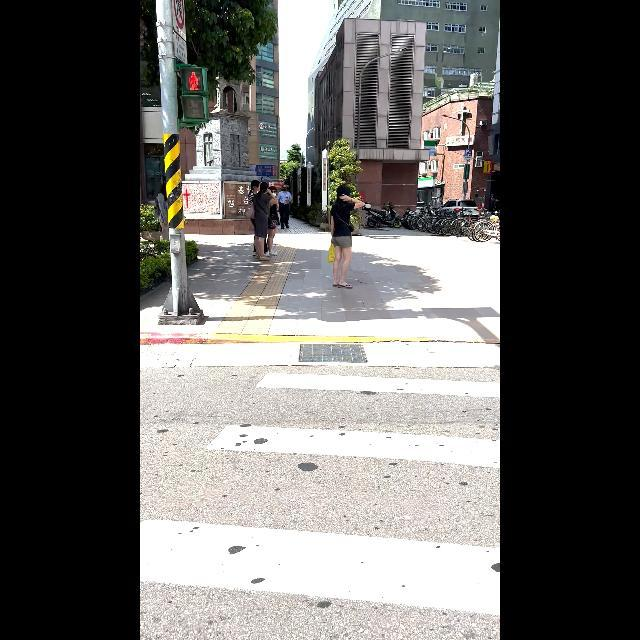sidewalk: (140, 369, 497, 617)
